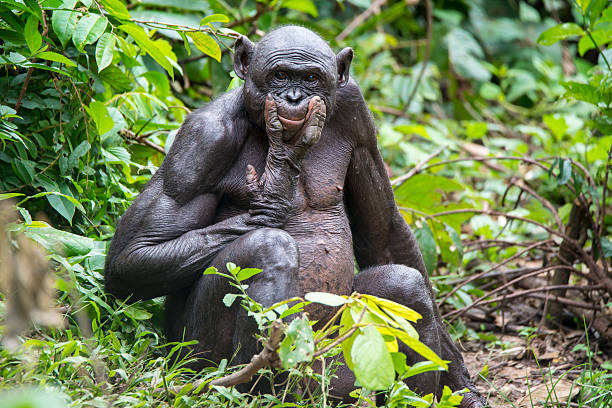chimpanzee: (227, 17, 365, 141)
